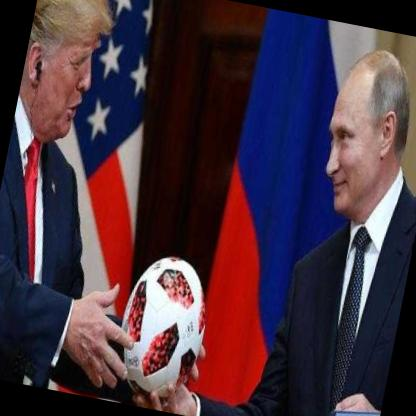ball: (109, 248, 216, 408)
